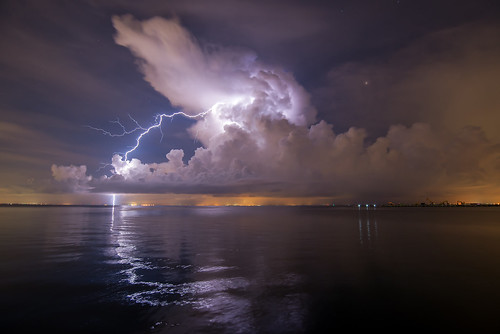sea: (1, 204, 500, 334)
sky: (1, 1, 500, 194)
